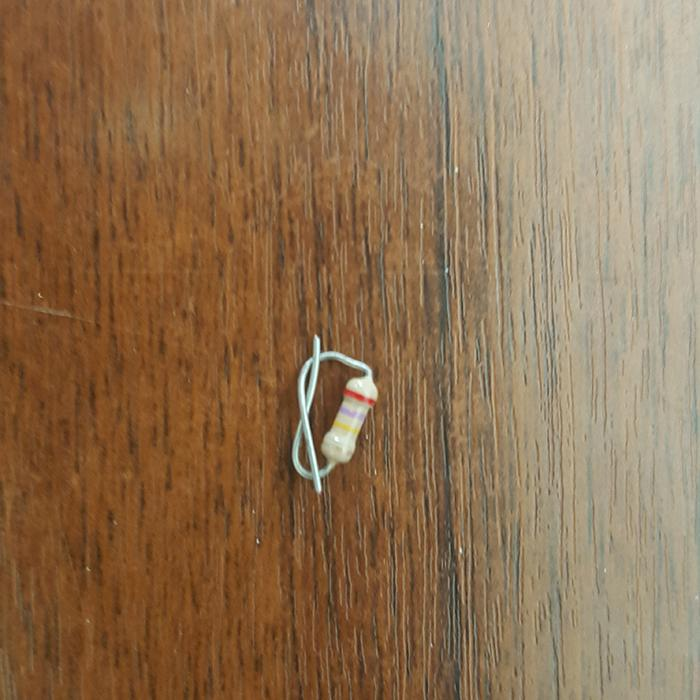resistor: (322, 375, 378, 464)
